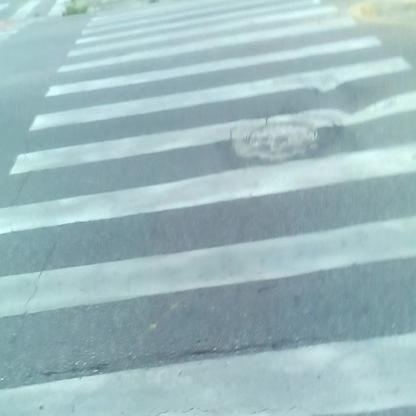crosswalk: (37, 32, 411, 416)
